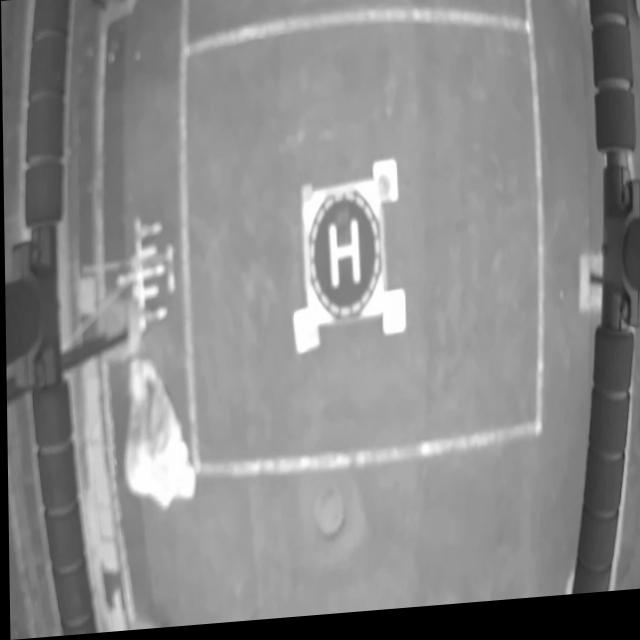Helipad: (327, 222, 359, 294)
